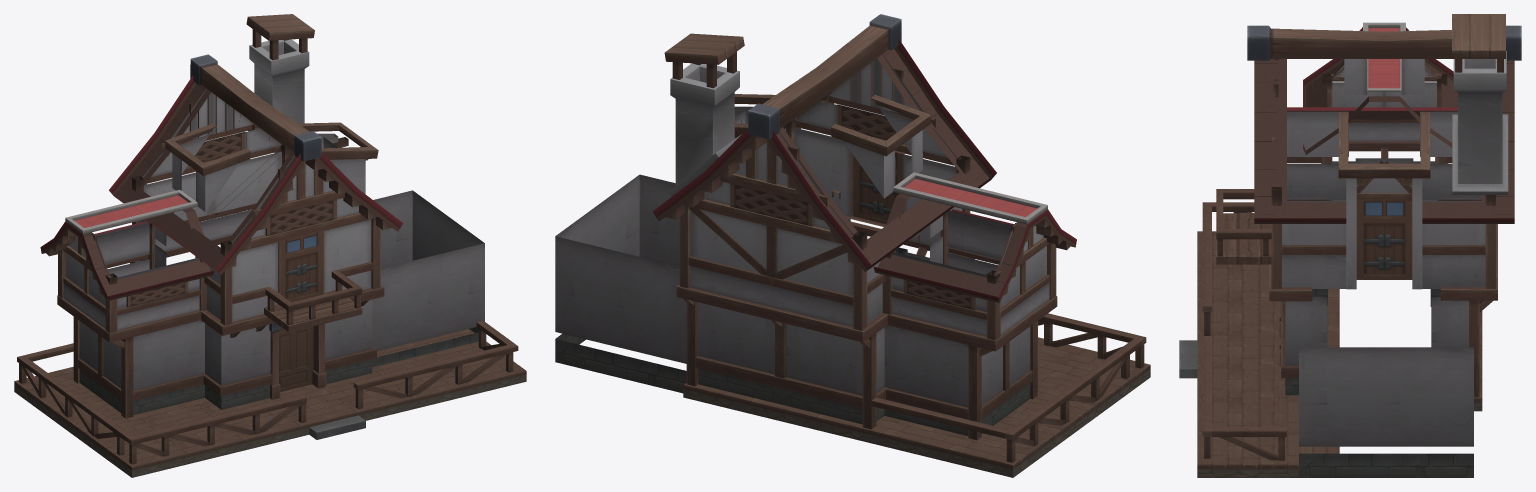
File: scene_luoliante_blt01.FBX
3 views of the same model, side by side, from view 1: azimuth 30°, elevation 25°; view 2: azimuth 150°, elevation 25°; view 3: azimuth 270°, elevation 25° (orthographic). The views are drawn at different scales.
Parts seen in each view (by area): view 1: scene_luoliante_blt01; view 2: scene_luoliante_blt01; view 3: scene_luoliante_blt01.
Boxes of the visible parts, box(x1,y1,x2,y2) form: scene_luoliante_blt01: box(14, 14, 526, 477); scene_luoliante_blt01: box(555, 14, 1150, 477); scene_luoliante_blt01: box(1179, 14, 1521, 477).
Bounding box in the file's own units: 951 × 710 × 589.
